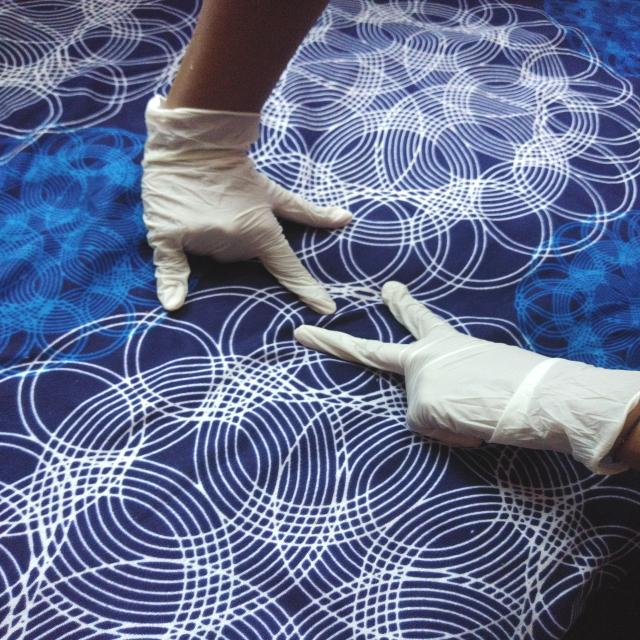glove: (291, 276, 637, 478), (132, 87, 359, 320)
